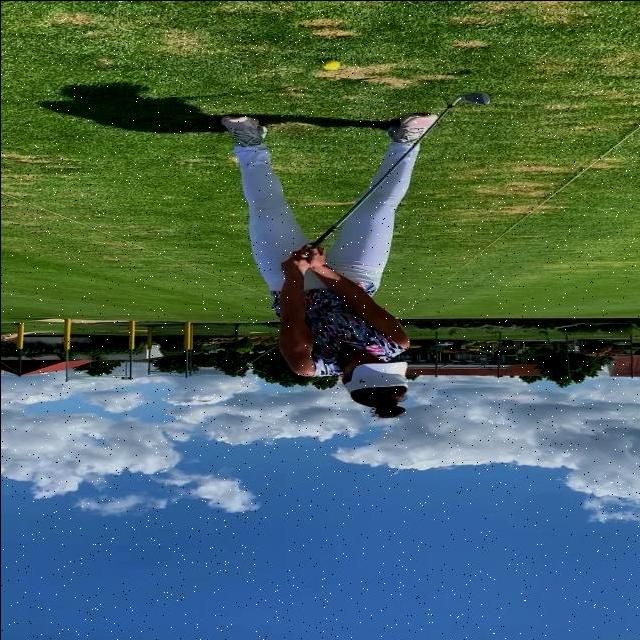golf ball: (313, 54, 341, 71)
golf club-handle: (305, 90, 493, 251)
golf club-head: (462, 91, 493, 105)
